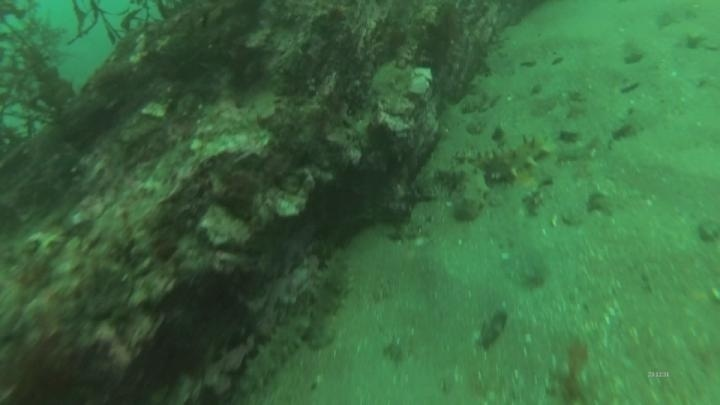holothurian: (236, 306, 317, 396), (447, 131, 557, 189), (304, 244, 355, 351), (447, 159, 493, 225)
